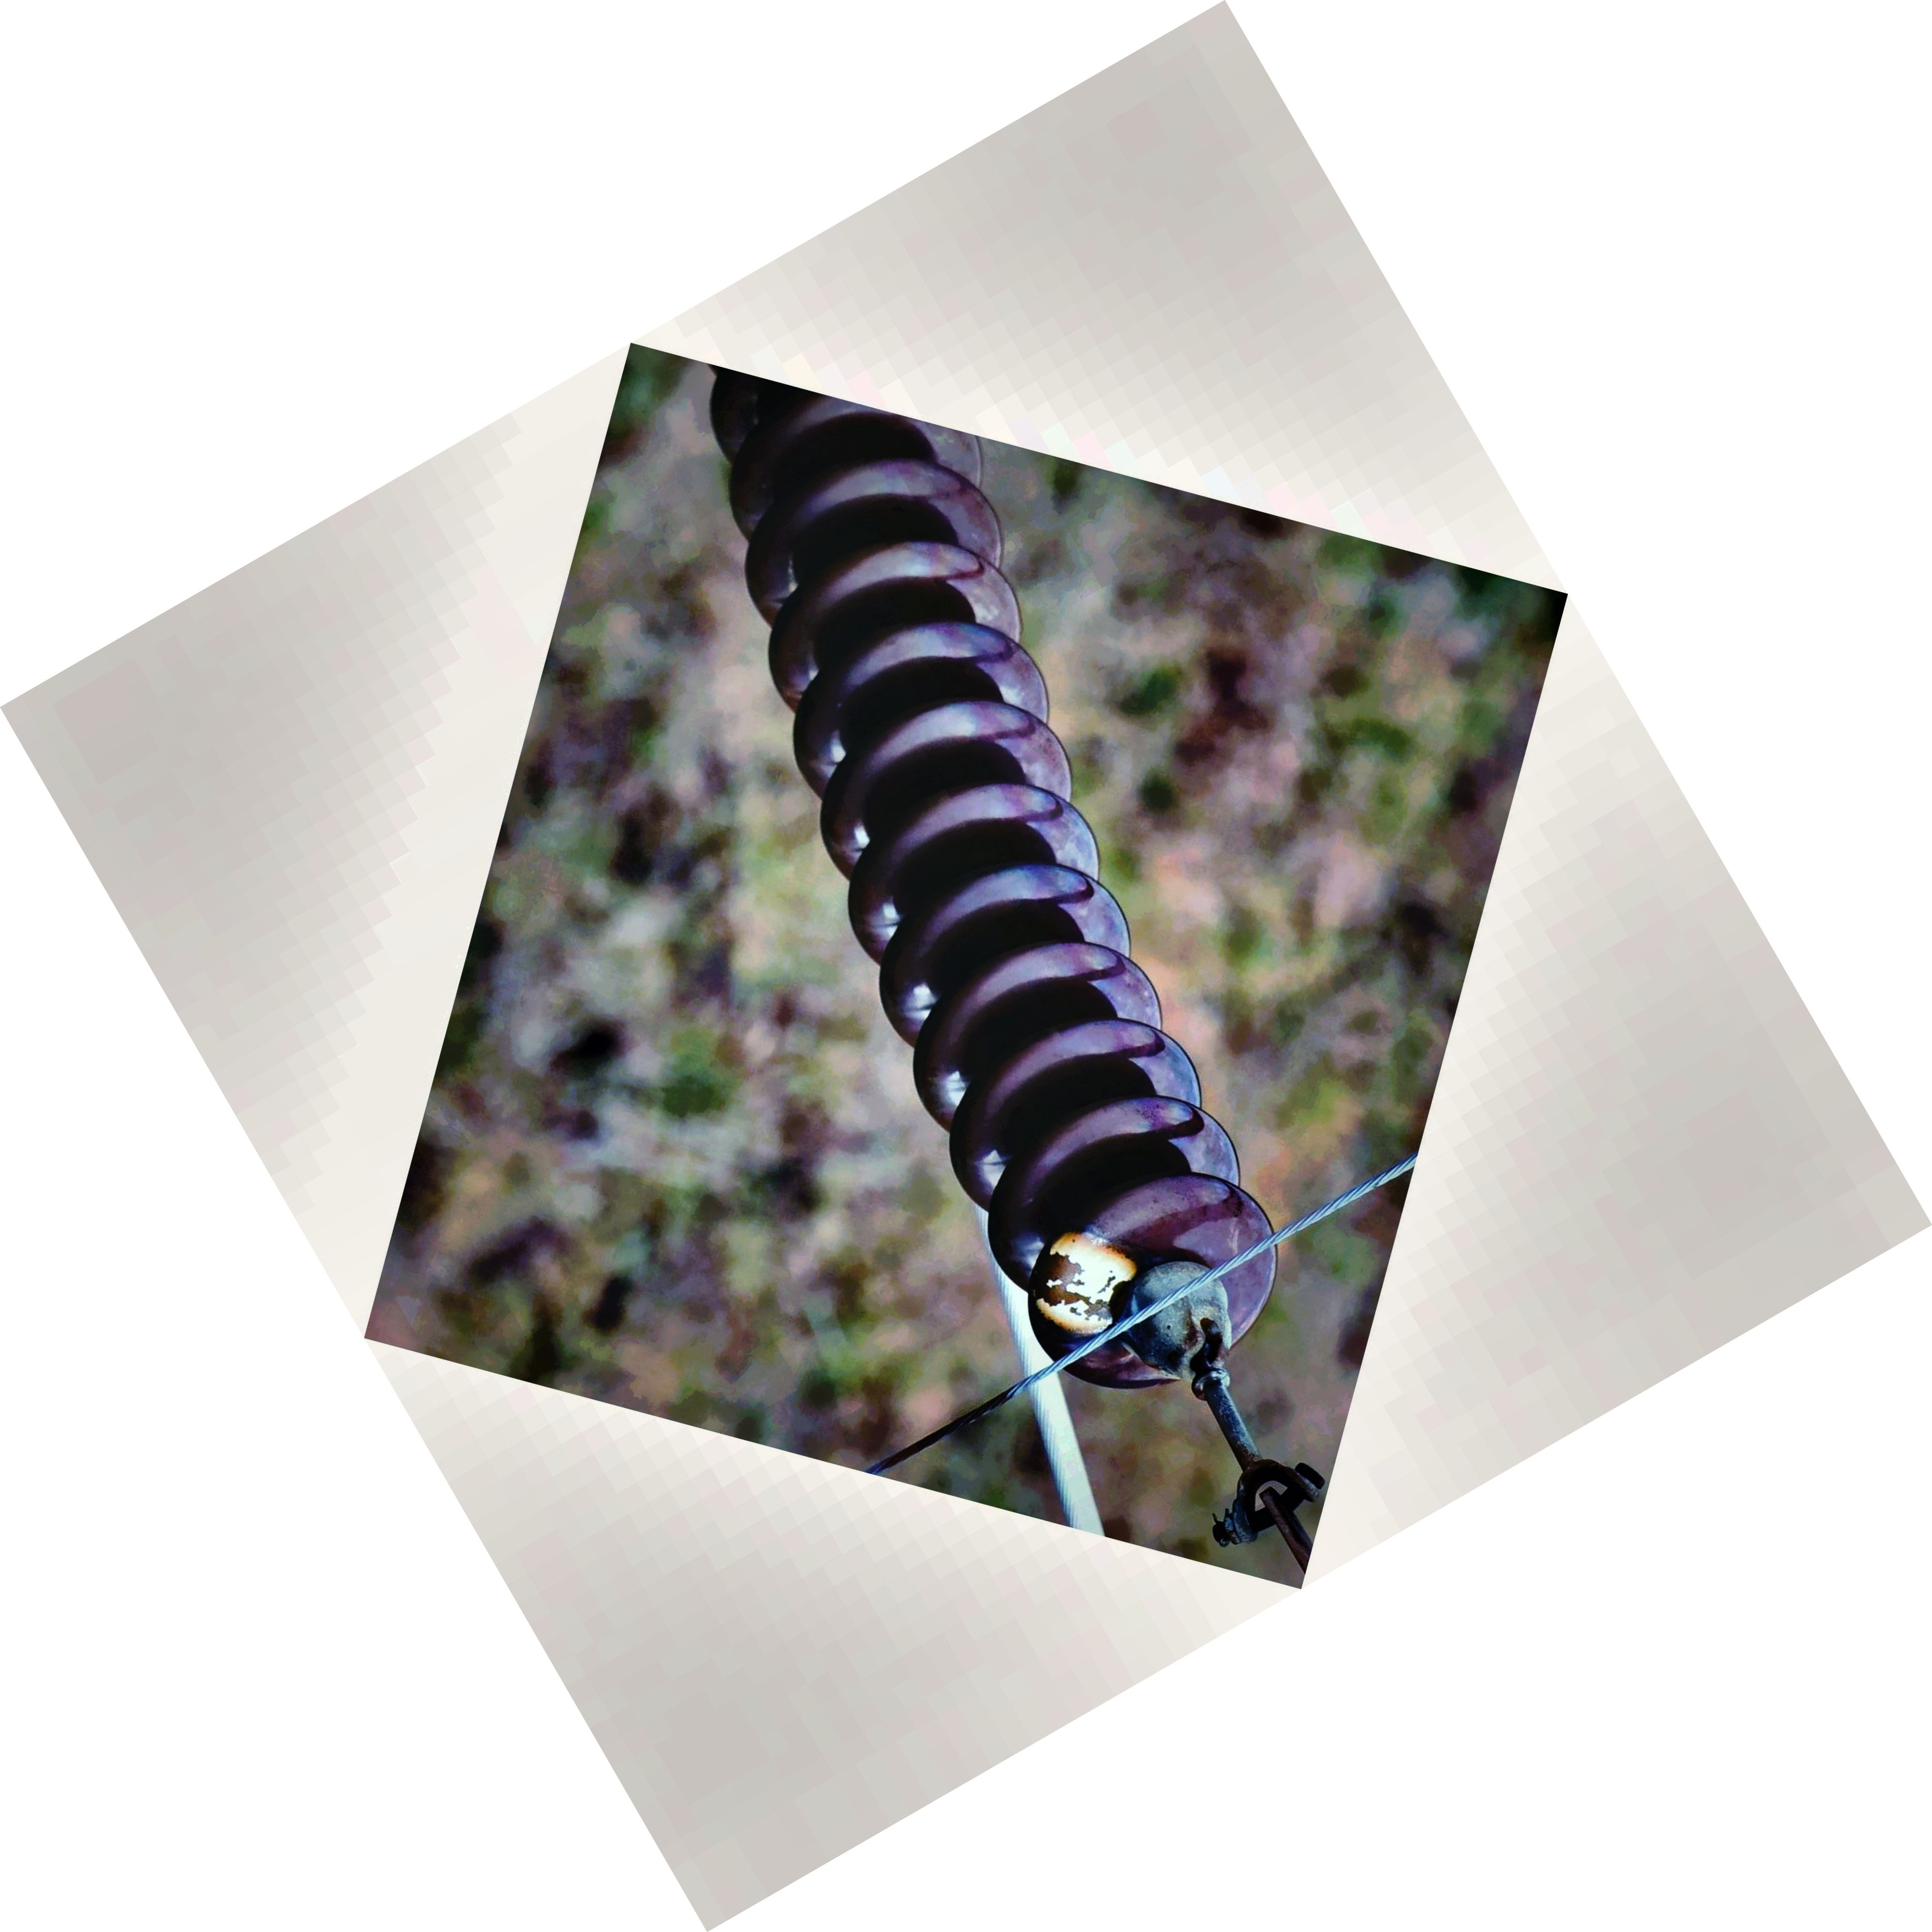Insulator flashover: (1023, 1161, 1297, 1394)
